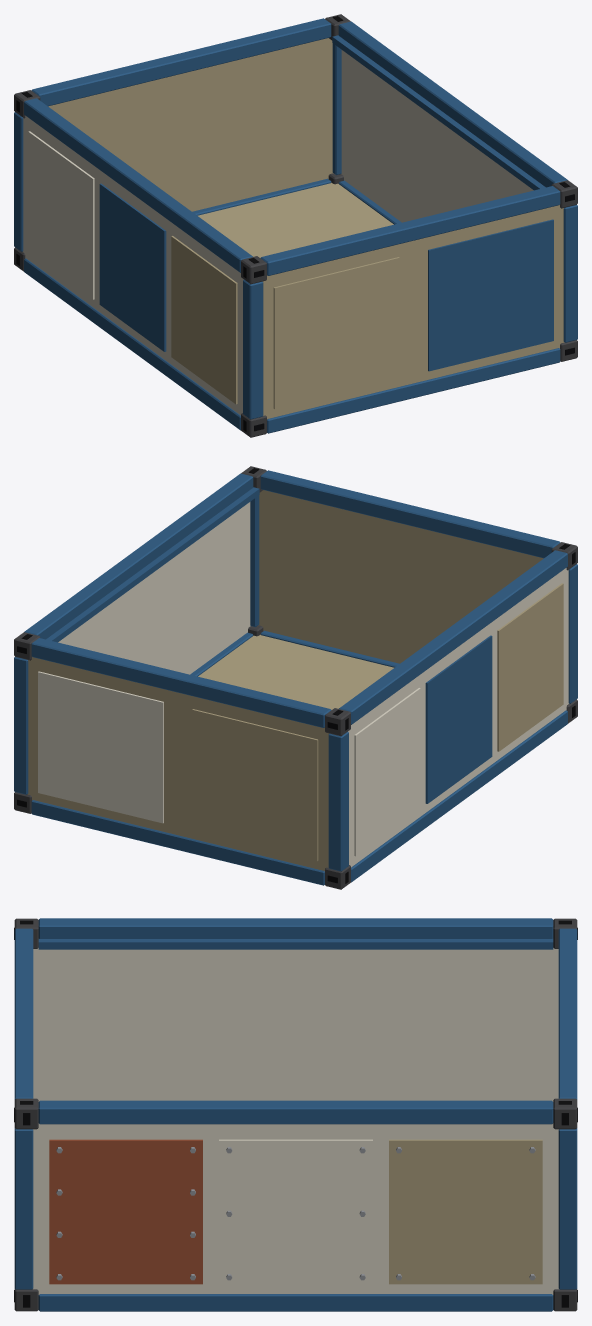
The model's file is drone4_frame.obj.
3 views of the same model, one above another, from view 1: azimuth 30°, elevation 25°; view 2: azimuth 150°, elevation 25°; view 3: azimuth 270°, elevation 25° (orthographic). The views are drawn at different scales.
Parts seen in each view (by area): view 1: drone4_frame; view 2: drone4_frame; view 3: drone4_frame.
Part boxes in pixels (x1,y1,x2,y2): drone4_frame: (14,14,577,437); drone4_frame: (14,466,577,889); drone4_frame: (14,918,577,1311).
Bounding box in the file's own units: 3.4 × 1.7 × 4.23.
